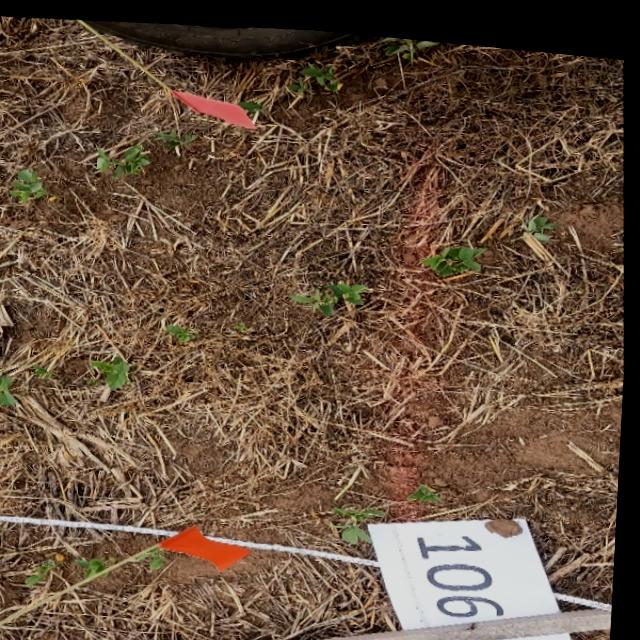soy_plant: (292, 277, 367, 309), (334, 500, 390, 536), (98, 141, 151, 176), (424, 239, 487, 267), (382, 29, 437, 54), (94, 352, 132, 387), (12, 169, 49, 202), (301, 57, 341, 86), (329, 276, 369, 298), (31, 558, 62, 586), (153, 127, 197, 146), (528, 204, 558, 231), (0, 376, 20, 411), (81, 555, 111, 576), (141, 545, 168, 568), (412, 475, 445, 493), (169, 321, 200, 339)
